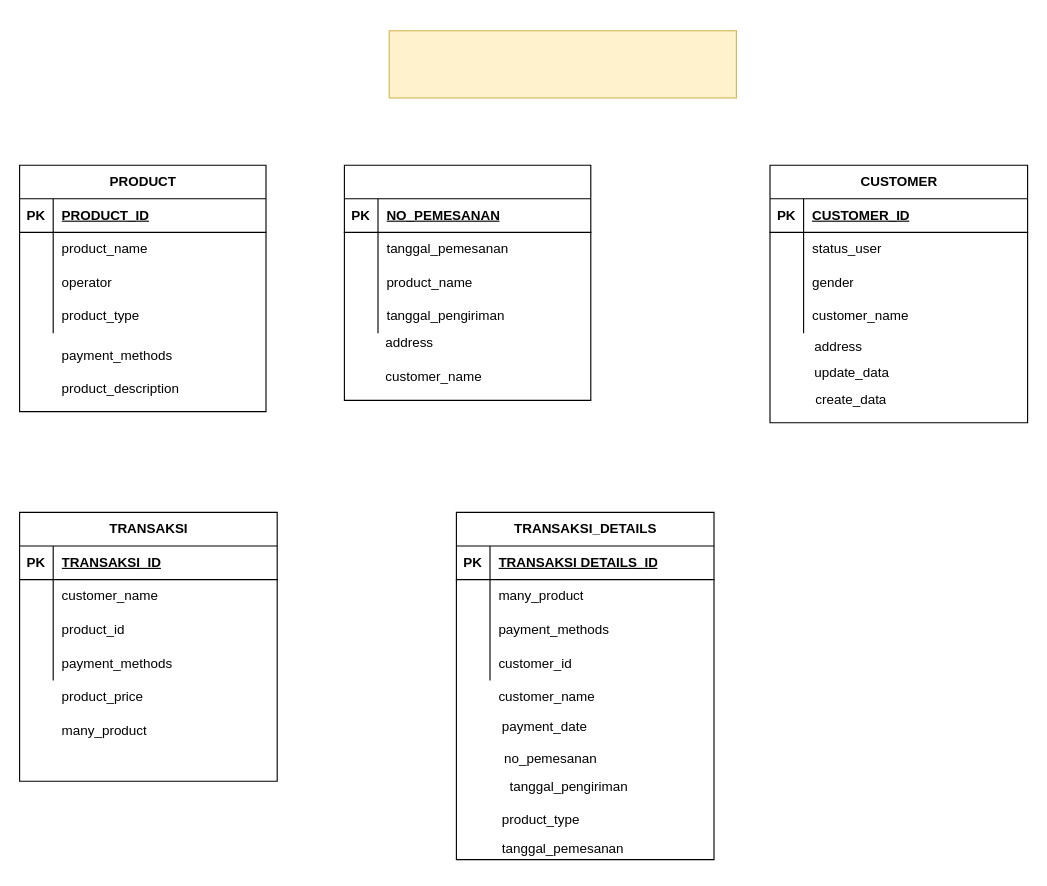
This 1047x886 diagram has some shape labels left out. Here are the shapes that lost their labels. From the top down, the box of each, then its label:
(388, 30, 736, 98): MAPPING ERD KE TABEL
(343, 164, 591, 400): PEMESANAN (ORDER)
